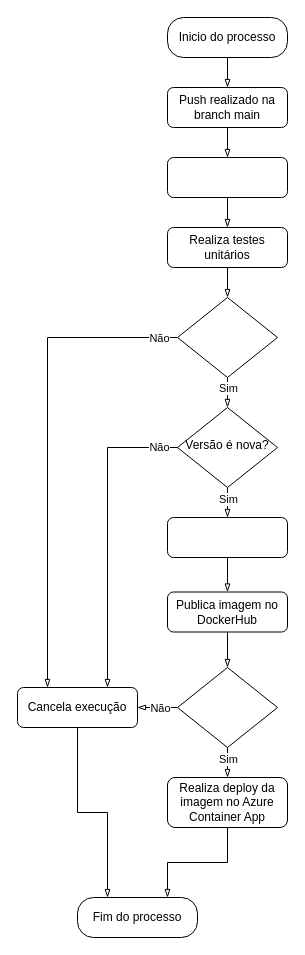
The diagram is 305 pixels wide and 955 high, and some of its shapes have lost their labels. The shapes that lost their labels are listed below. From the top down, each one's box as (x1, y1, x2, y2) in pixels, then its label:
(166, 156, 288, 198): Ativa workflow de CI/CD
(176, 296, 278, 378): Testes passaram?
(166, 516, 288, 558): Realiza build da imagem Docker
(176, 666, 278, 748): Imagem publicada com sucesso?
